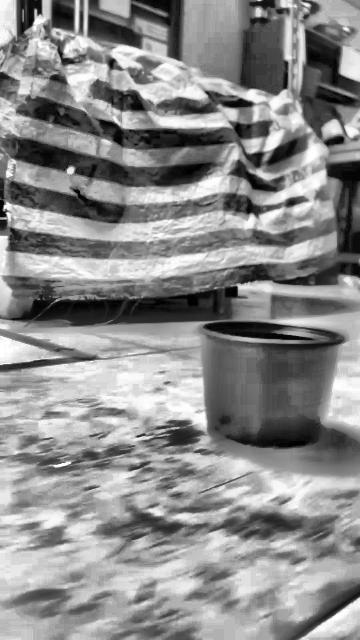pot: (196, 320, 348, 447)
